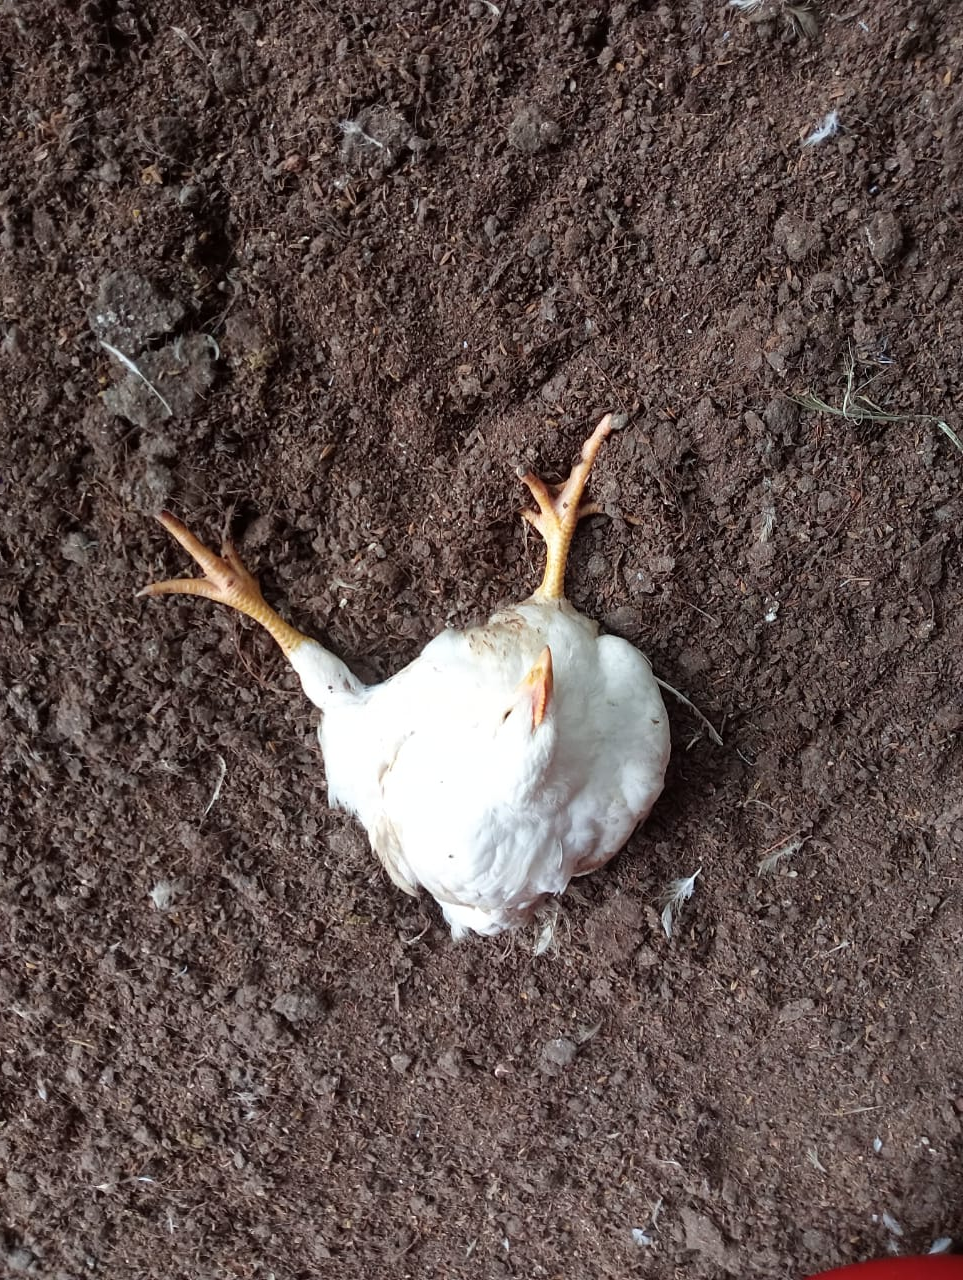Unhealthy: (108, 383, 753, 952)
